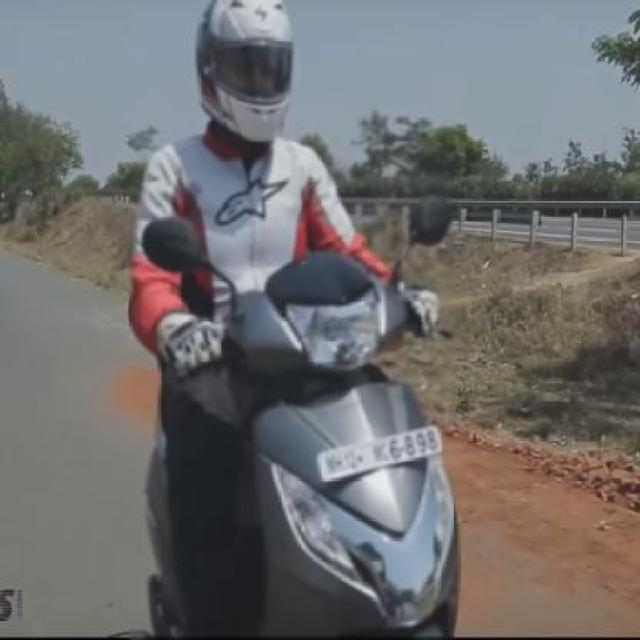helmet: (186, 6, 310, 149)
motorcycle: (111, 0, 494, 640)
